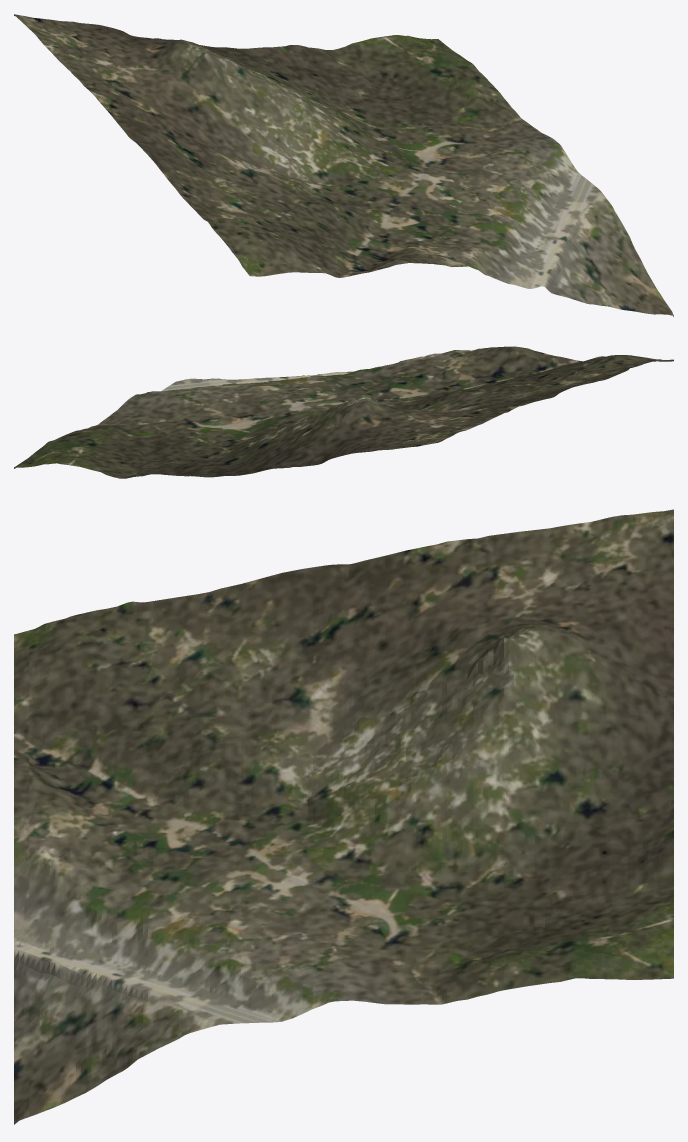
The picture shows the model from 3 angles, top to bottom: view 1: azimuth 30°, elevation 25°; view 2: azimuth 150°, elevation 25°; view 3: azimuth 270°, elevation 25°; orthographic projection. The views are drawn at different scales.
Bounding box in the file's own units: 250 × 132 × 241.
1 material, 1 textured.
